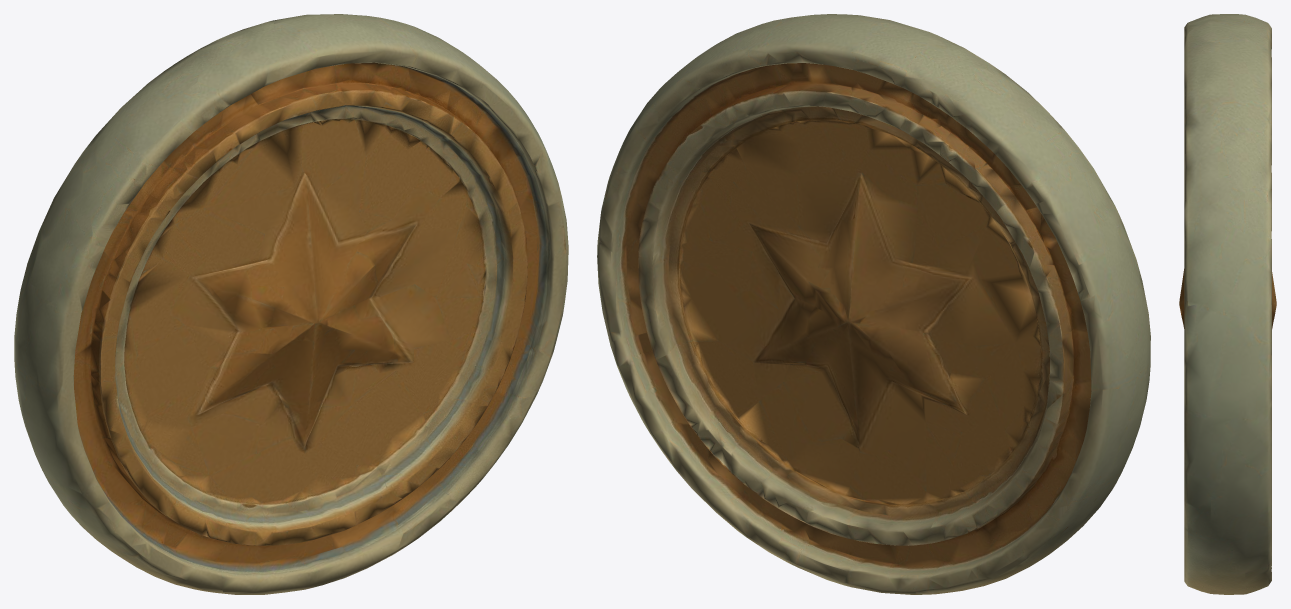
The model's file is cross_hop_xhopCoin.glb.
3 views of the same model, side by side, from view 1: azimuth 30°, elevation 25°; view 2: azimuth 150°, elevation 25°; view 3: azimuth 270°, elevation 25° (orthographic). The views are drawn at different scales.
Size of the model in its own units: 1.9 by 1.9 by 0.3189.
1 material, 1 textured.
